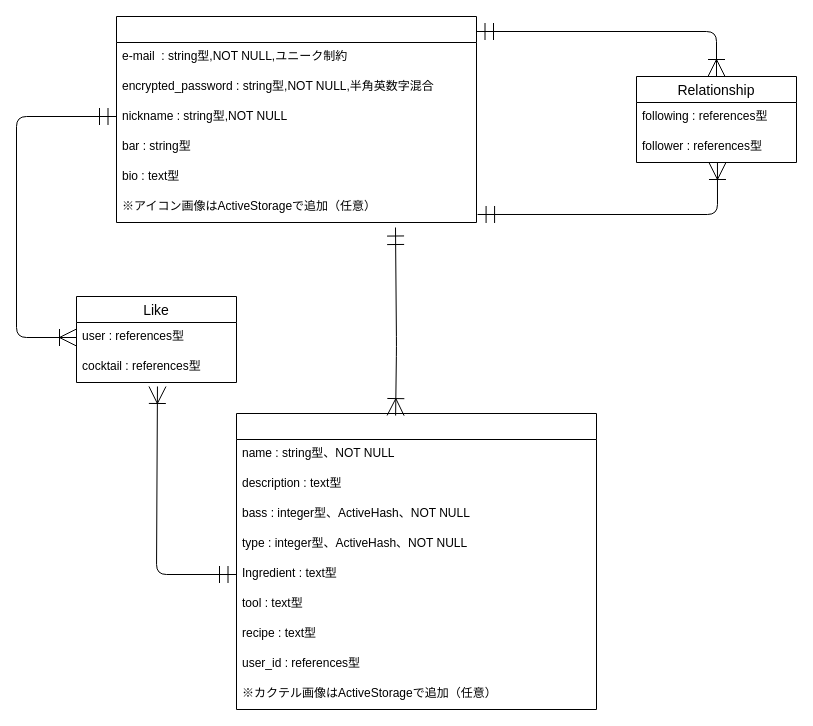
The diagram is 813 pixels wide and 726 high, and some of its shapes have lost their labels. Each missing label, with the box of its shape:
Cocktail: (236, 412, 596, 710)
User: (116, 16, 476, 222)
